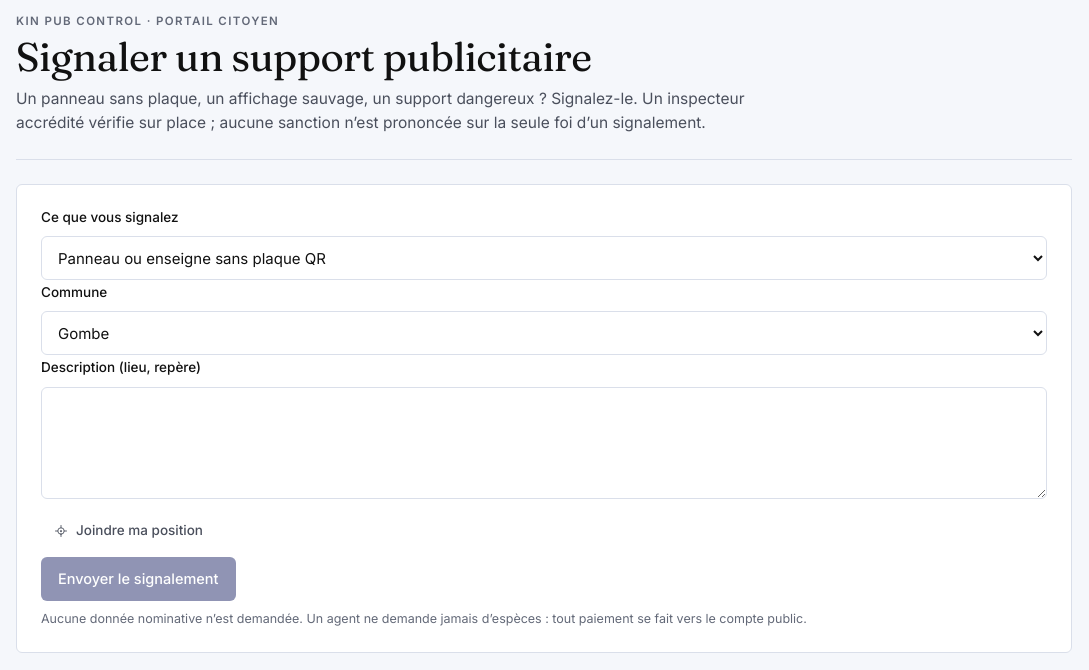
Test case: Portail citoyen de signalement publicitaire › envoie le signalement sans donnée nominative et affiche le code de suivi de la ligne d’intégrité
Step 1. Select "Un contrôleur m’a demandé de l’argent liquide" in the dropdown labelled "Ce que vous signalez" → (544, 258), box [41,236,1047,280]
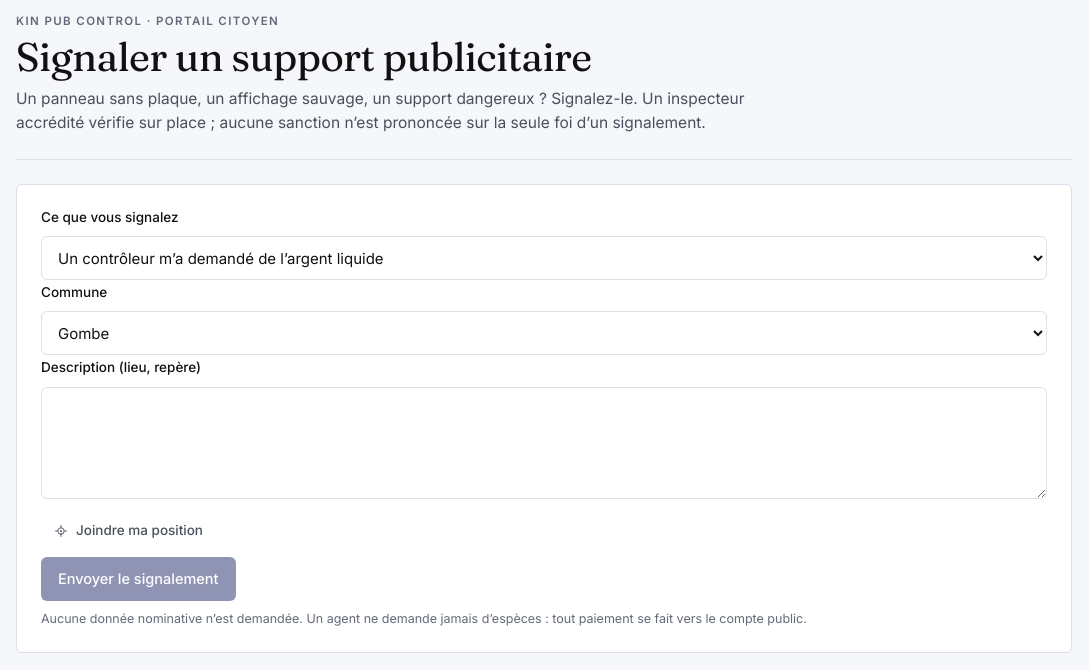
Step 2. Type "Un contrôleur a demandé de l’argent liquide au carrefour" into the text box labelled "Description (lieu, repère)" → (544, 443), box [41,387,1047,499]
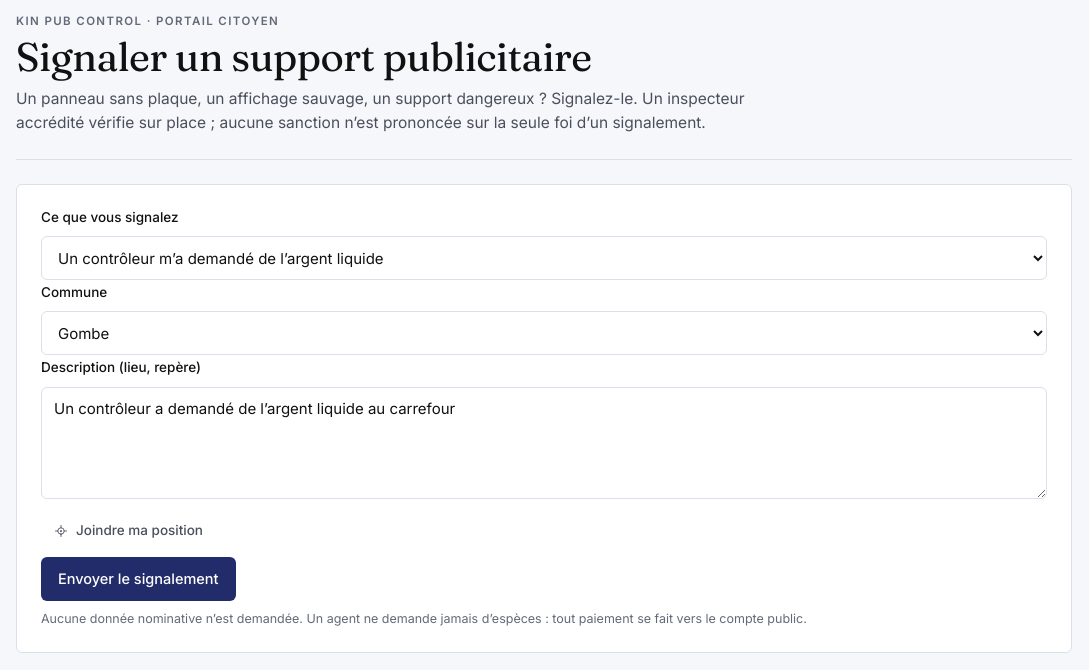
Step 3. Click the button "Envoyer le signalement" → (138, 579), box [41,557,236,601]
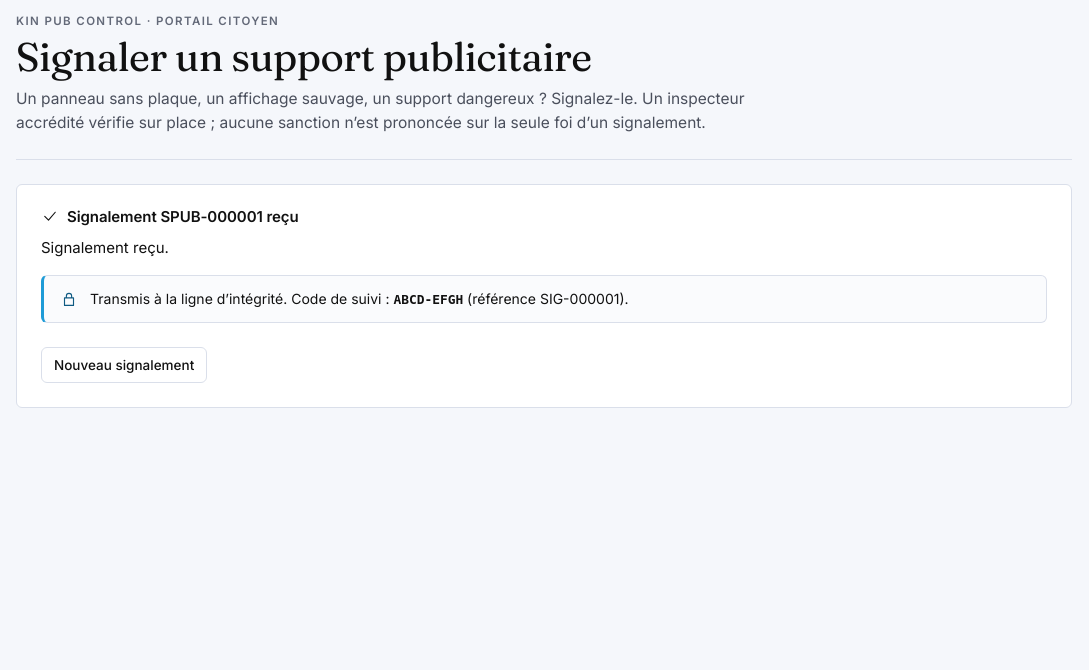
Check: the text "ABCD-EFGH" is shown, box [393,292,463,307]
